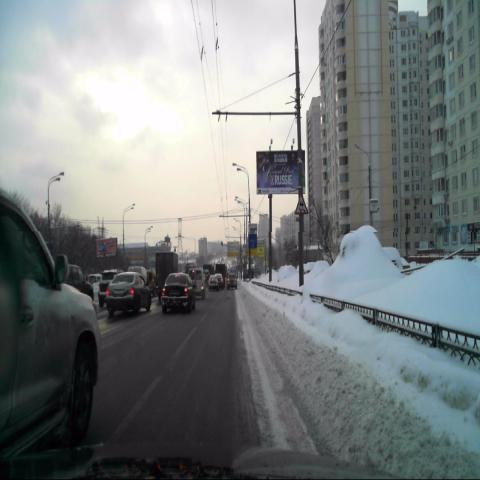1_15: (294, 192, 308, 215)
